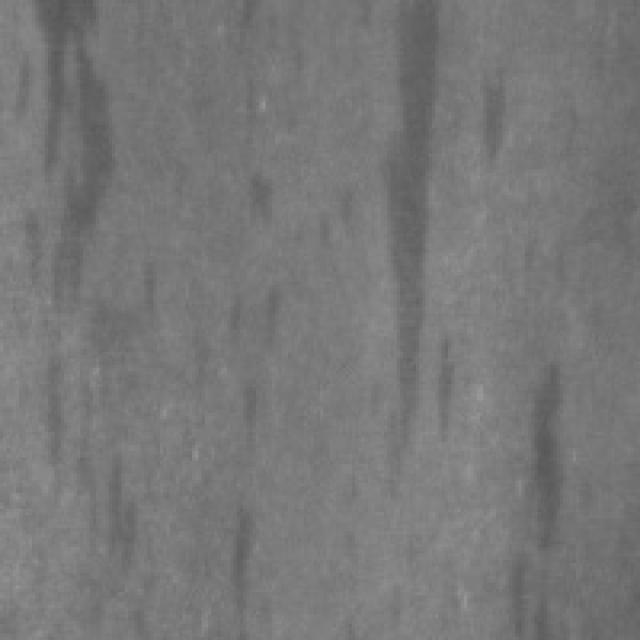inclusion: (22, 0, 100, 512), (372, 0, 454, 435), (496, 352, 576, 630), (86, 438, 160, 592), (215, 492, 262, 634), (470, 48, 516, 176), (218, 272, 284, 358), (227, 157, 275, 227), (224, 374, 262, 458)
